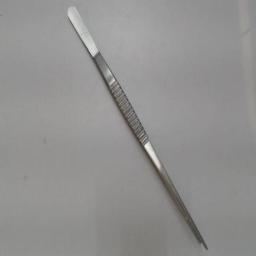DeBakey Dissector: (41, 2, 223, 254)
